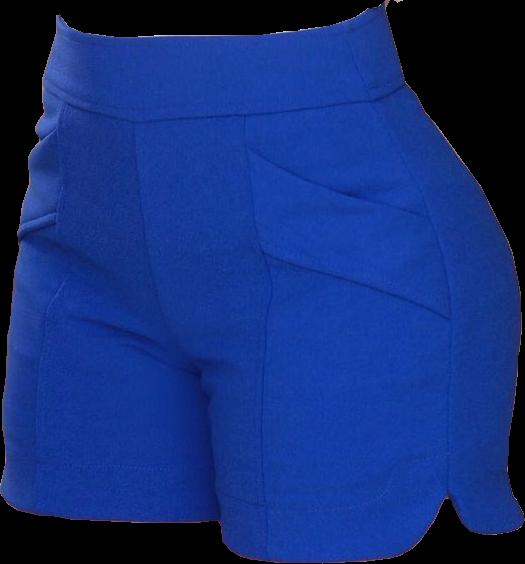Hemline: (222, 491, 524, 563), (0, 487, 224, 524)
Pantleg: (129, 4, 523, 561), (0, 16, 221, 522)
Waistline: (42, 77, 407, 127), (54, 3, 385, 43)
